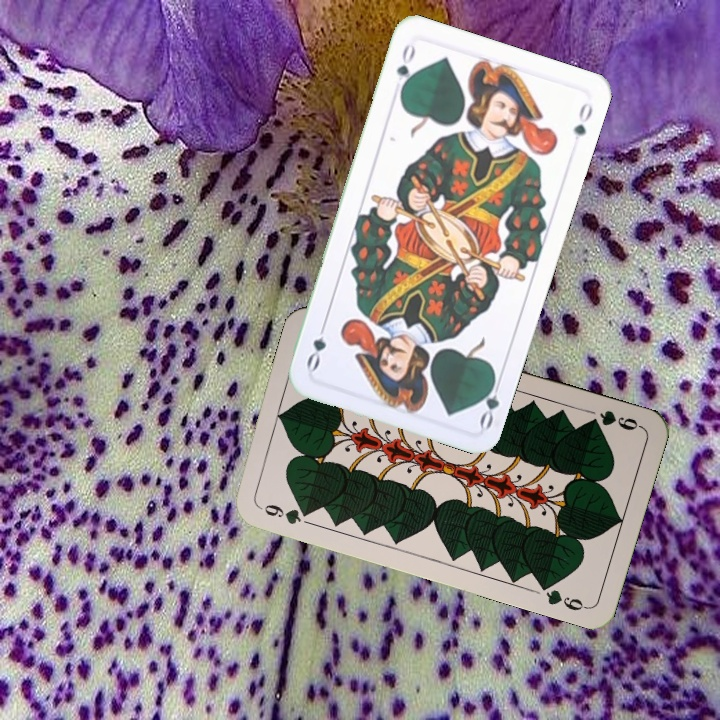G9: (583, 406, 644, 433), (255, 500, 315, 527)
GO: (474, 371, 505, 431), (392, 40, 418, 98)
